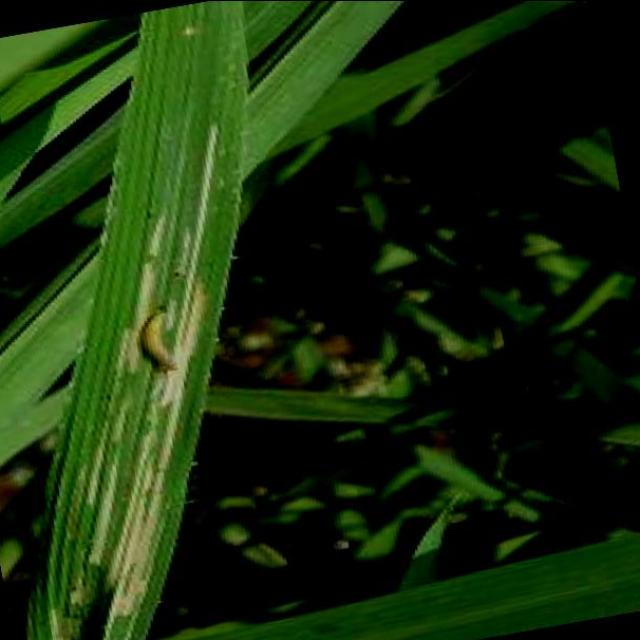leaf folder: (142, 305, 178, 372)
